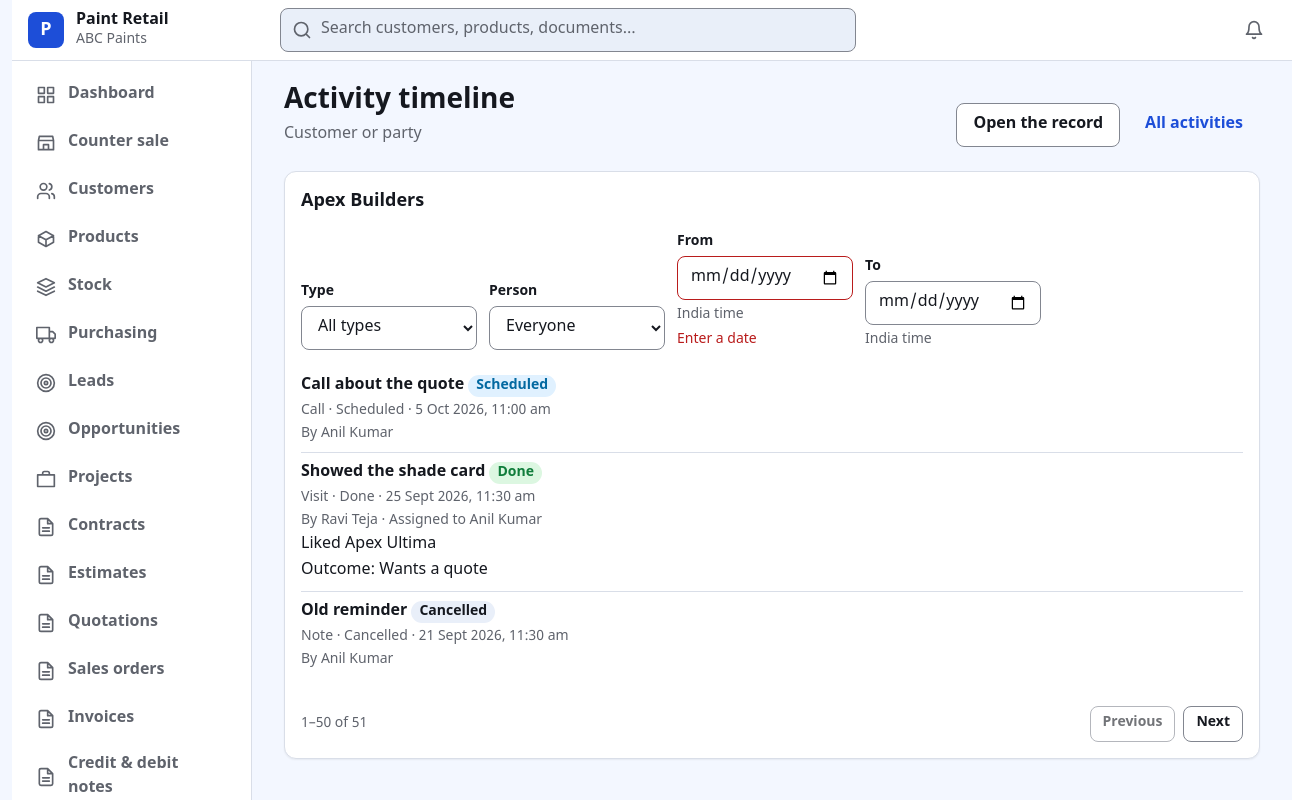
ActivitiesPage › shows a record’s timeline with the same filters, and pages it
Check: the text "Enter a date" is shown, box x1=677 y1=330 x2=757 y2=349
Check: the text "Customer or party" is shown, box x1=284 y1=124 x2=422 y2=145
Select "Me" in the dropdown labelled "Person" at (577, 328), box x1=489 y1=306 x2=665 y2=350
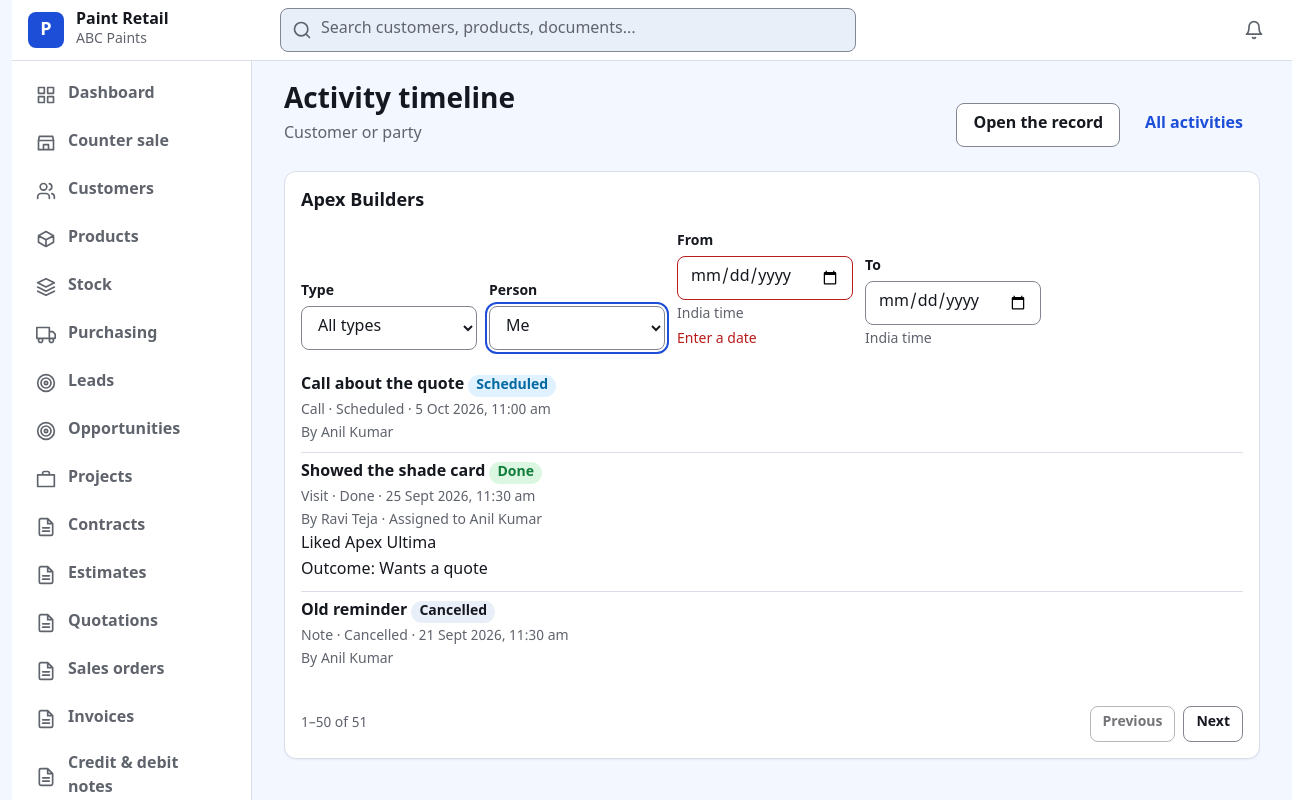
Click the button "Next" at (1213, 724), box x1=1184 y1=706 x2=1243 y2=742
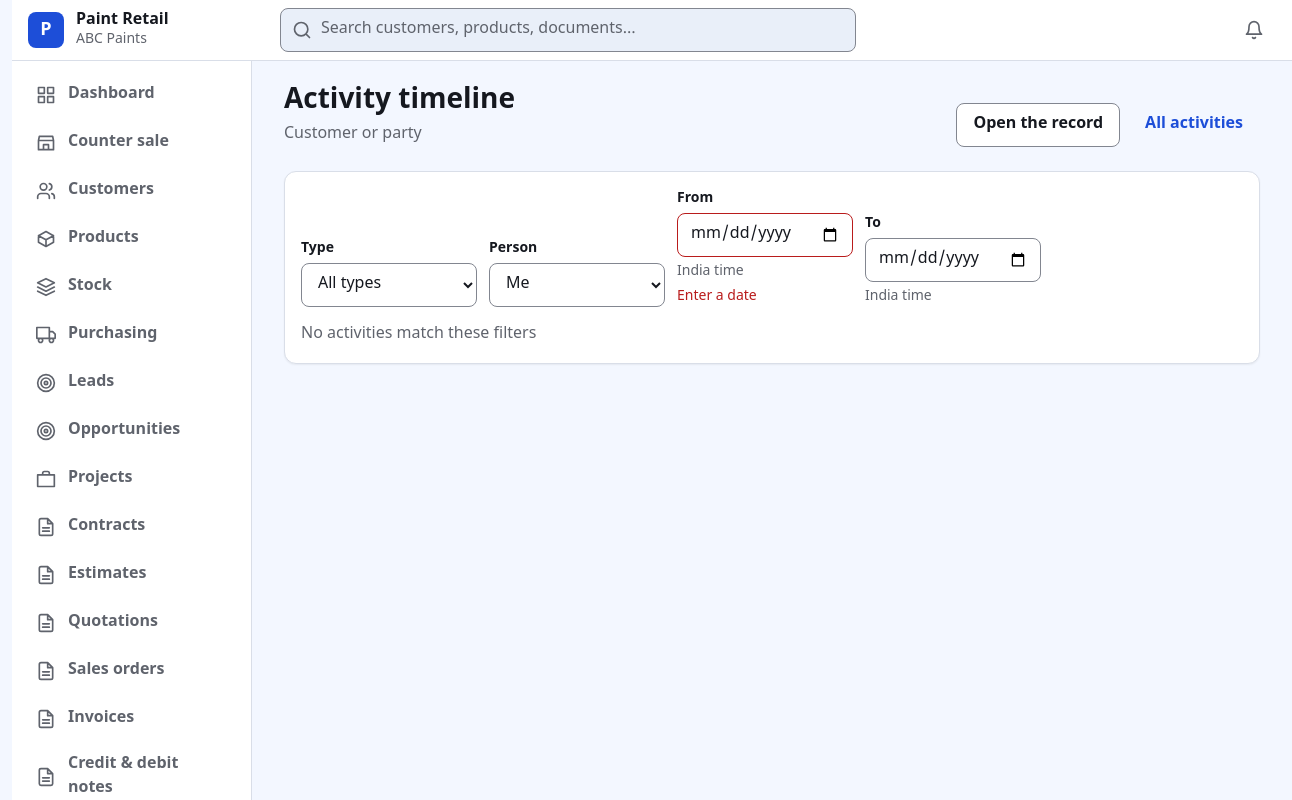
Check: the text "No activities match these filters" is shown, box x1=301 y1=324 x2=536 y2=345
Click the link "All activities" at (1194, 124), box x1=1145 y1=114 x2=1243 y2=135
(page scrolled)
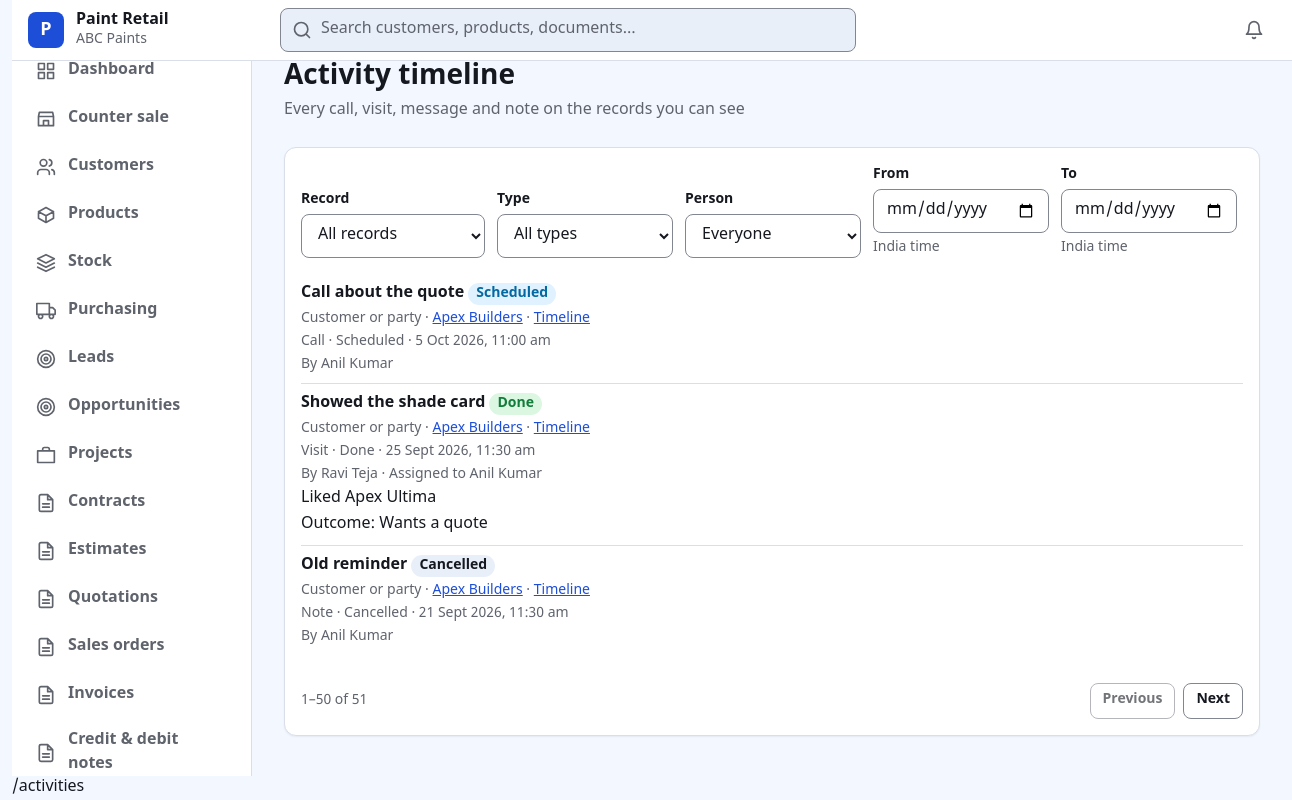
Check: the dropdown labelled "Record" is shown, box x1=301 y1=214 x2=485 y2=258
Check: the text with test id "location" reads "/activities", box x1=12 y1=777 x2=84 y2=798
